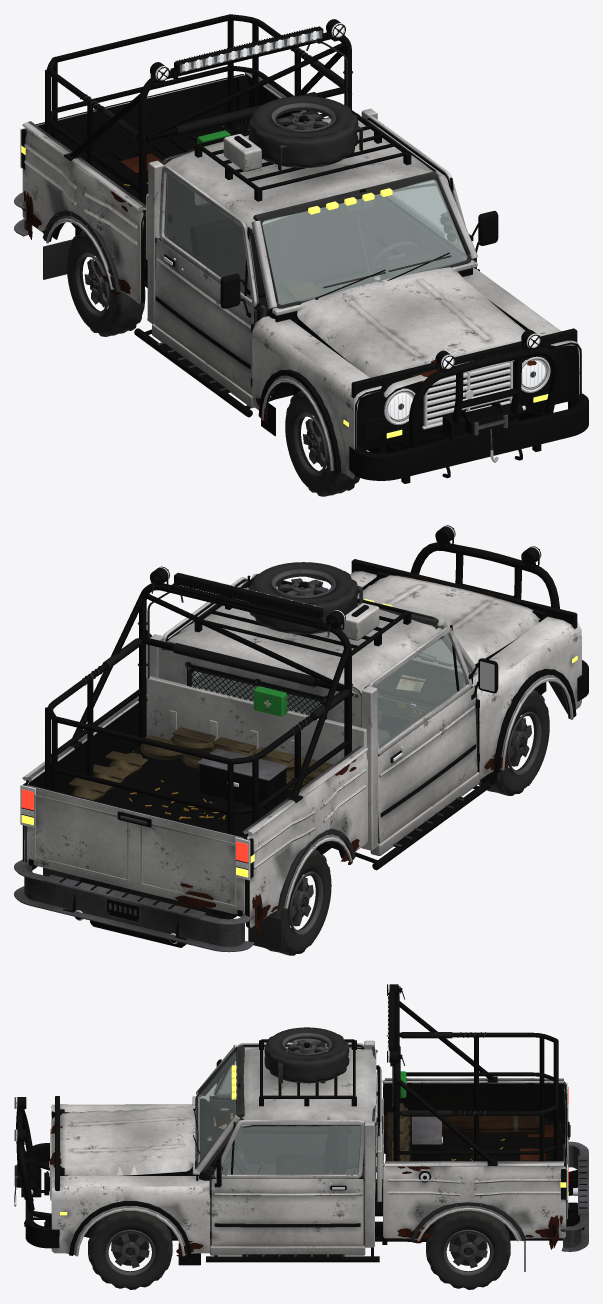
The picture shows the model from 3 angles, top to bottom: view 1: azimuth 30°, elevation 25°; view 2: azimuth 150°, elevation 25°; view 3: azimuth 270°, elevation 25°; orthographic projection. The views are drawn at different scales.
Visible parts, largest first — view 1: body, panel_door_R, panel_hood, panel_fender_R, panel_bumper_F, panel_tailgate, wheel_RR, panel_door_L, wheel_FR, panel_fender_L; view 2: body, panel_tailgate, panel_door_R, panel_fender_R, panel_bumper_R, panel_hood, wheel_RR, wheel_FR, panel_door_L; view 3: body, panel_door_L, panel_hood, panel_fender_L, wheel_RL, wheel_FL, panel_bumper_F, panel_bumper_R, panel_door_R, panel_fender_R, panel_tailgate.
Boxes of the visible parts, x1,y1,x2,y2 form: body: (20, 14, 577, 483); panel_door_R: (154, 165, 262, 395); panel_hood: (297, 267, 546, 397); panel_fender_R: (252, 316, 381, 479); panel_bumper_F: (349, 393, 588, 480); panel_tailgate: (36, 74, 246, 161); wheel_RR: (67, 230, 145, 336); panel_door_L: (366, 115, 498, 271); wheel_FR: (285, 390, 359, 496); panel_fender_L: (463, 268, 581, 408); body: (20, 525, 577, 951); panel_tailgate: (26, 784, 245, 916); panel_door_R: (366, 625, 498, 843); panel_fender_R: (472, 616, 581, 785); panel_bumper_R: (14, 859, 254, 952); panel_hood: (357, 575, 539, 664); wheel_RR: (265, 849, 331, 955); wheel_FR: (478, 690, 549, 795); panel_door_L: (163, 575, 251, 695); body: (14, 984, 584, 1271); panel_door_L: (209, 1120, 364, 1246); panel_hood: (46, 1105, 195, 1182); panel_fender_L: (51, 1176, 210, 1265); wheel_RL: (426, 1210, 510, 1289); wheel_FL: (88, 1211, 172, 1289); panel_bumper_F: (14, 1143, 59, 1248); panel_bumper_R: (561, 1141, 588, 1251); panel_door_R: (212, 1043, 365, 1156); panel_fender_R: (51, 1104, 192, 1118); panel_tailgate: (544, 1085, 570, 1226).
Size of the model in its own units: 2.45 by 2.55 by 5.7.
Materials: 21 (13 with a texture image).
